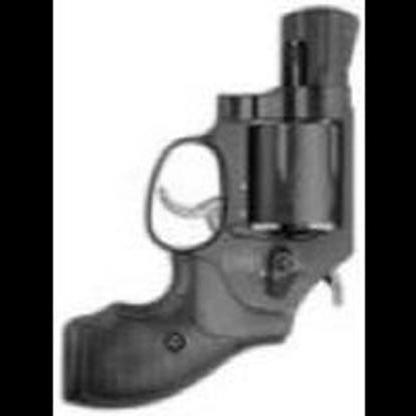weapon: (61, 6, 362, 412)
